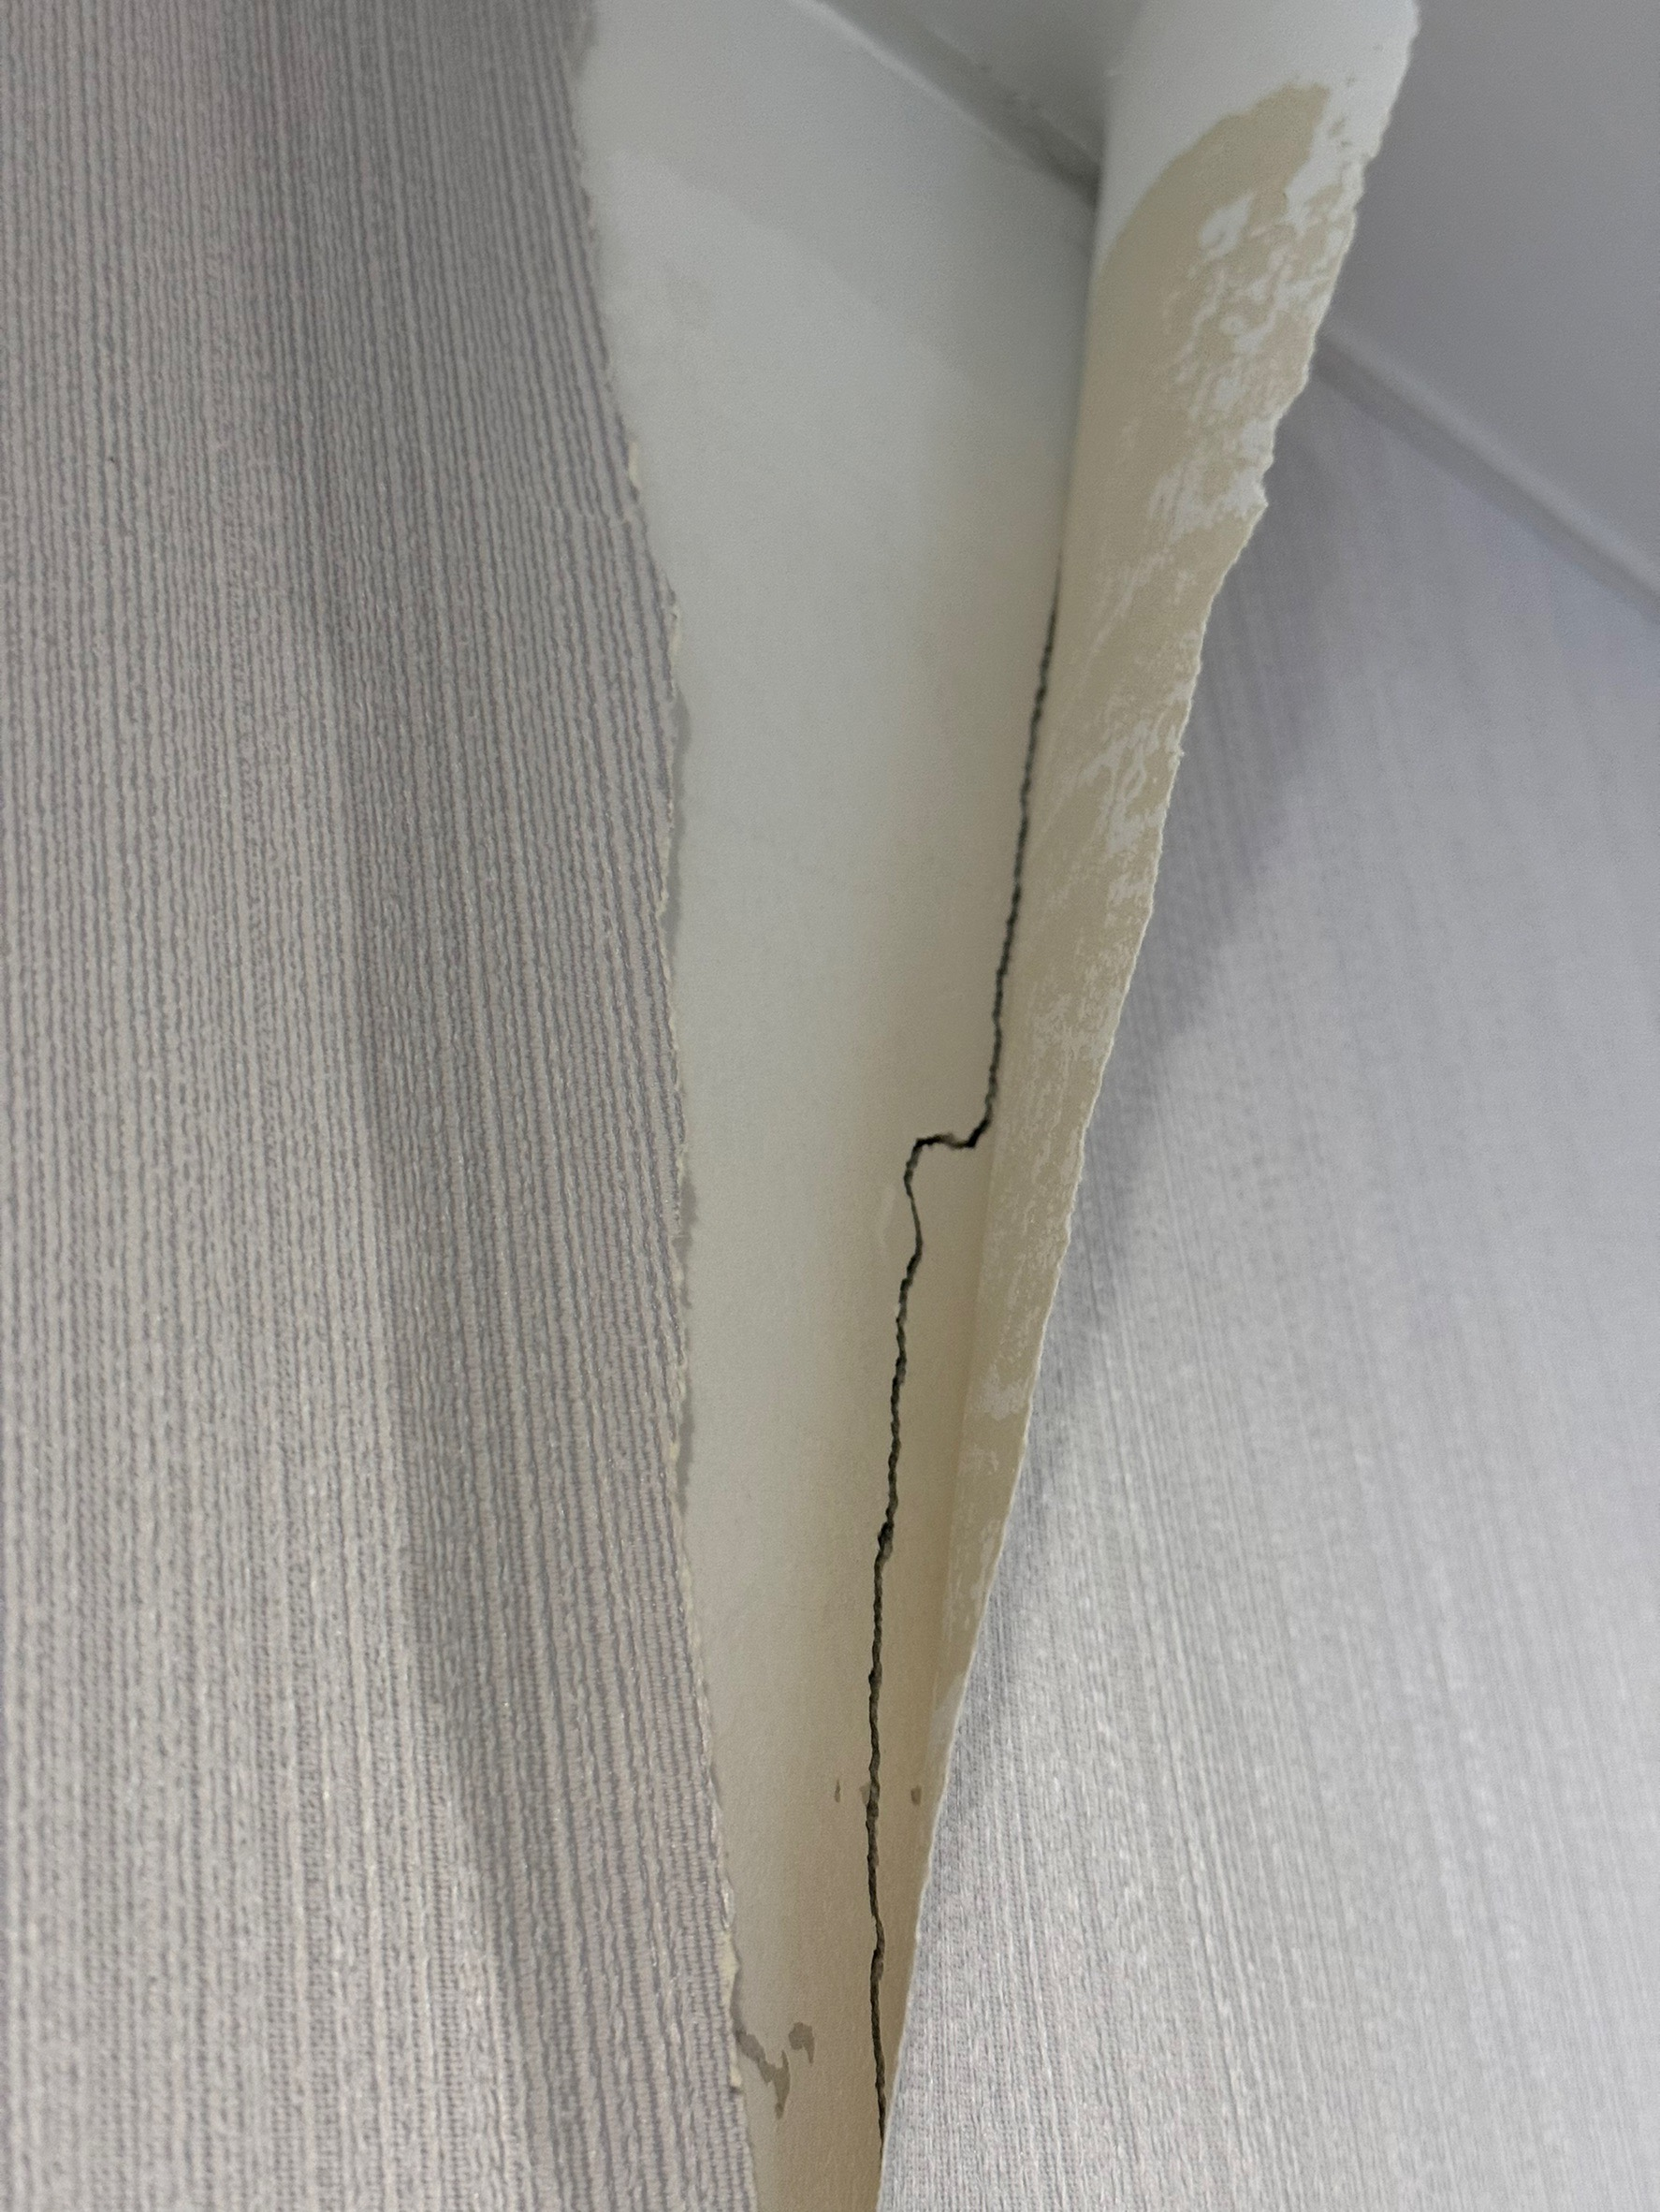Low: (781, 180, 1243, 2156)
